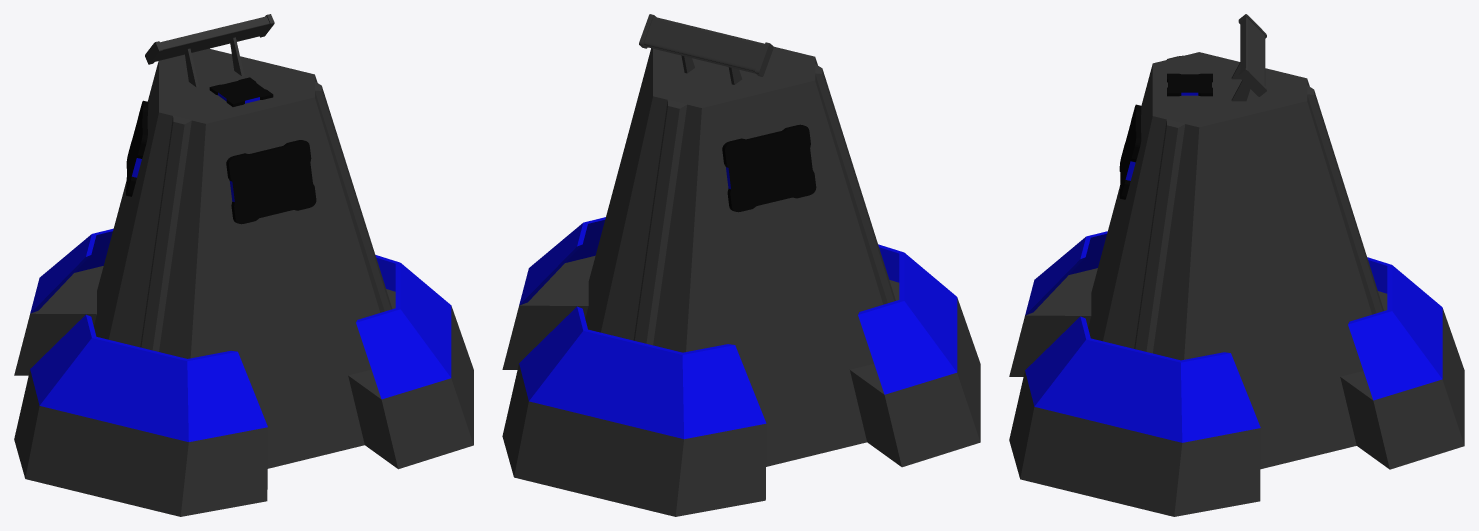
File: BlueThing.glb
3 renders of one model, left to right at view 1: azimuth 30°, elevation 25°; view 2: azimuth 150°, elevation 25°; view 3: azimuth 270°, elevation 25°, orthographic. The views are drawn at different scales.
Parts seen in each view (by area): view 1: Cylinder, Cube, Cube.002, Cube.001, Cube.005; view 2: Cylinder, Cube.001, Cube.002; view 3: Cylinder, Cube.002, Cube, Cube.005.
Boxes of the visible parts, bbox=[...] form: Cylinder: bbox=[14, 48, 473, 516]; Cube: bbox=[226, 140, 316, 224]; Cube.002: bbox=[145, 14, 274, 64]; Cube.001: bbox=[126, 100, 148, 196]; Cube.005: bbox=[209, 77, 273, 106]; Cylinder: bbox=[502, 46, 980, 516]; Cube.001: bbox=[722, 124, 816, 212]; Cube.002: bbox=[639, 14, 773, 76]; Cylinder: bbox=[1009, 52, 1464, 516]; Cube.002: bbox=[1238, 14, 1266, 96]; Cube: bbox=[1119, 104, 1141, 199]; Cube.005: bbox=[1167, 73, 1212, 96].
Size of the model in its own units: 0.8893 by 0.7012 by 0.7893.
